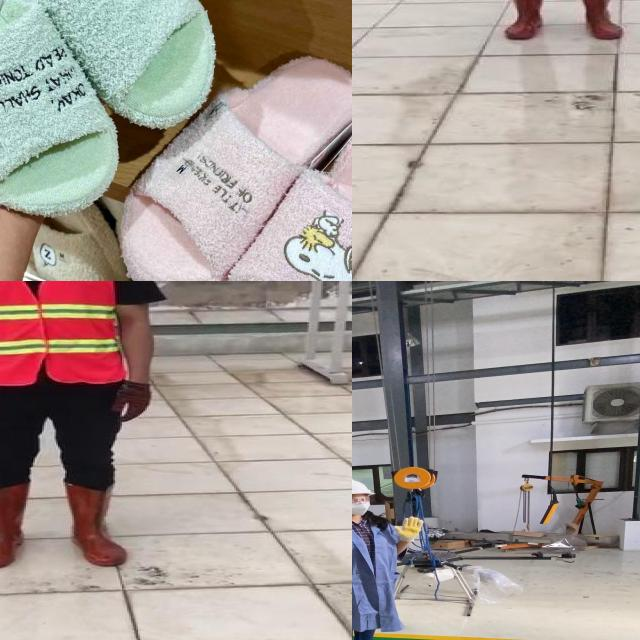Sandals: (106, 23, 352, 281), (0, 0, 231, 225)
boots: (65, 485, 126, 568), (0, 486, 33, 567), (575, 0, 627, 40), (501, 0, 552, 40)
face_mask: (352, 494, 371, 516)
glasses: (352, 494, 374, 504)
hand_glove: (392, 515, 426, 539)
head_helmet: (352, 476, 372, 499)
person: (0, 281, 168, 580), (352, 474, 427, 640)
vest: (0, 281, 125, 384)
